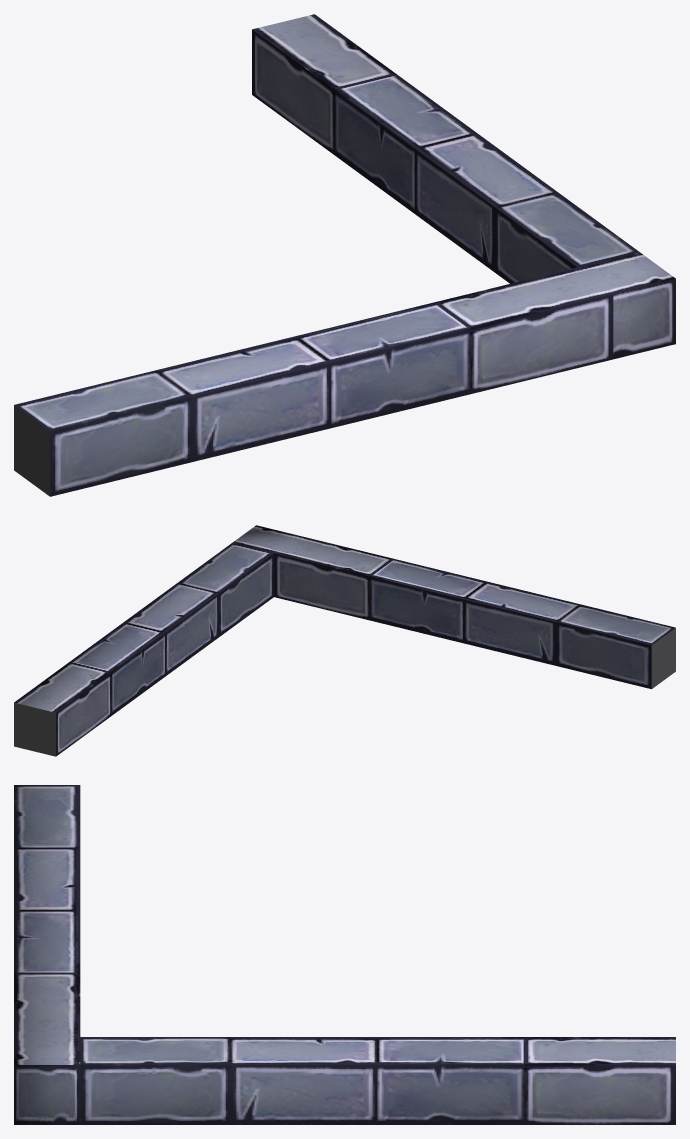
File: dungeon_plinth_corner_L.fbx
3 views of the same model, one above another, from view 1: azimuth 30°, elevation 25°; view 2: azimuth 150°, elevation 25°; view 3: azimuth 270°, elevation 25° (orthographic). The views are drawn at different scales.
Parts seen in each view (by area): view 1: wall_side.003; view 2: wall_side.003; view 3: wall_side.003.
Part boxes in pixels (bbox=[...]): wall_side.003: bbox=[14, 14, 675, 496]; wall_side.003: bbox=[14, 525, 675, 756]; wall_side.003: bbox=[14, 785, 675, 1124].
Size of the model in its own units: 250 by 25 by 250.
